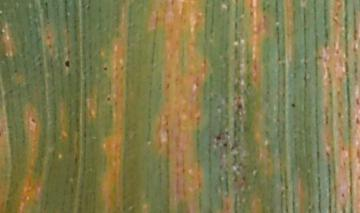tarspot: (63, 60, 73, 68), (237, 103, 244, 111), (105, 95, 112, 102), (102, 65, 109, 71), (29, 117, 36, 123), (222, 141, 228, 148), (215, 134, 221, 140), (291, 102, 296, 109)
